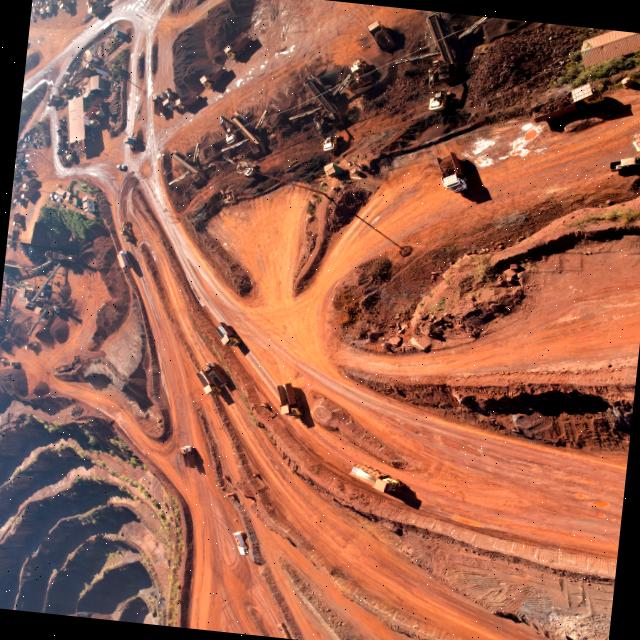Dumper truck: (528, 76, 604, 123), (227, 617, 316, 640), (436, 150, 474, 192), (347, 466, 401, 494), (270, 381, 306, 416), (221, 29, 254, 59), (147, 85, 173, 115), (195, 368, 223, 395), (212, 322, 242, 346), (200, 360, 228, 384), (369, 20, 393, 48), (200, 65, 226, 87), (180, 442, 200, 468), (173, 92, 197, 110), (43, 90, 63, 108), (86, 98, 105, 115), (86, 108, 104, 124), (85, 0, 104, 15), (118, 248, 132, 268), (12, 188, 26, 205), (20, 183, 34, 200), (23, 176, 37, 193), (12, 212, 26, 228), (77, 0, 105, 8), (22, 338, 39, 350), (3, 358, 20, 366), (0, 354, 7, 361)
Excavator: (422, 64, 461, 113), (308, 112, 348, 153), (624, 116, 640, 181)
car: (609, 153, 640, 172)
person: (115, 162, 128, 171)
